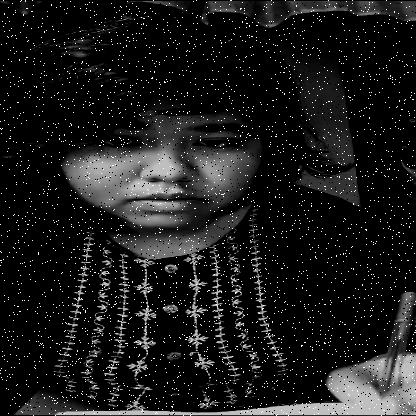Normal: (61, 92, 265, 228)
